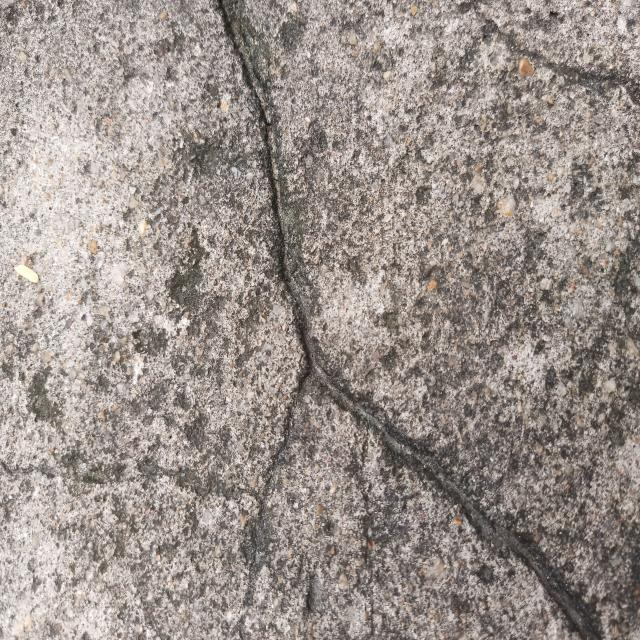diagonal crack: (218, 0, 599, 639)
